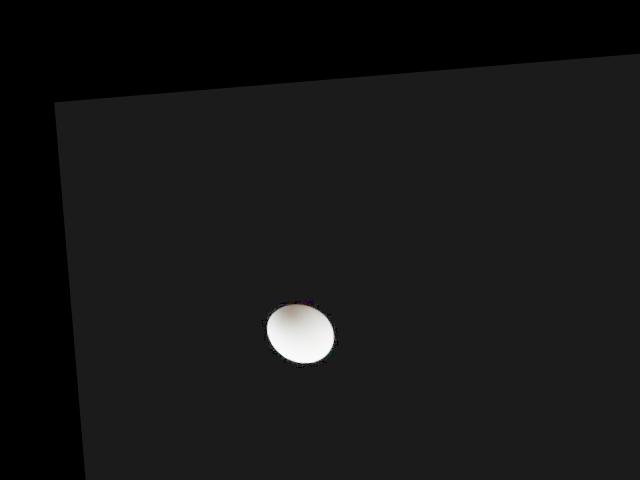egg: (264, 301, 335, 366)
